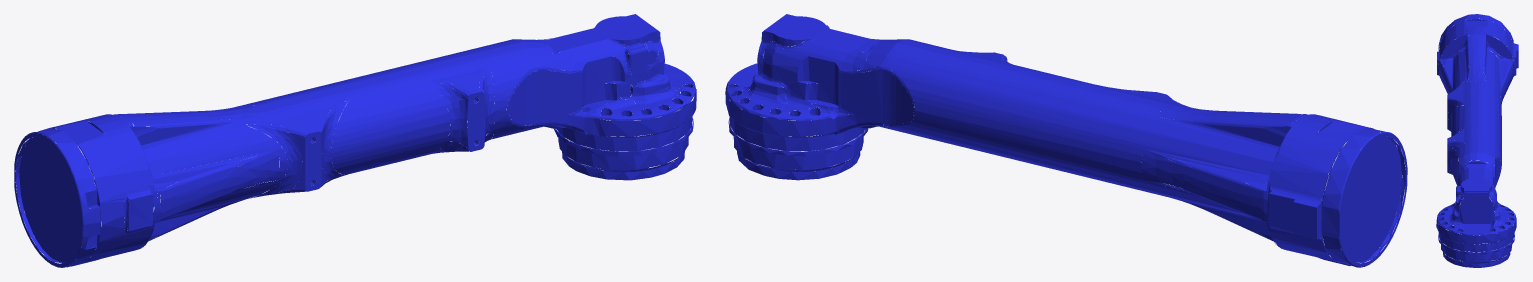
3 views of the same model, side by side, from view 1: azimuth 30°, elevation 25°; view 2: azimuth 150°, elevation 25°; view 3: azimuth 270°, elevation 25° (orthographic). The views are drawn at different scales.
Parts seen in each view (by area): view 1: /Link4/Link4_002-mesh/0; view 2: /Link4/Link4_002-mesh/0; view 3: /Link4/Link4_002-mesh/0.
Part boxes in pixels (left/top/right/bottom): /Link4/Link4_002-mesh/0: left=14, top=14, right=696, bottom=267; /Link4/Link4_002-mesh/0: left=725, top=14, right=1407, bottom=267; /Link4/Link4_002-mesh/0: left=1436, top=14, right=1518, bottom=267.
Size of the model in its own units: 0.7843 by 0.1911 by 0.1596.
